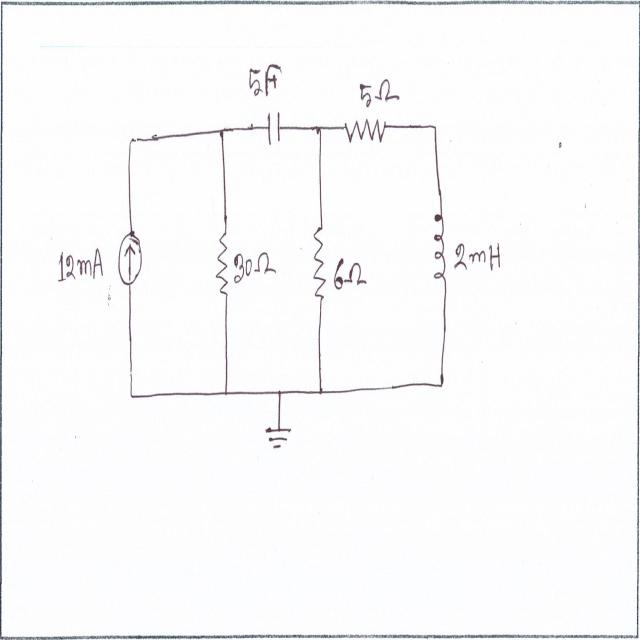capacitor: (266, 107, 285, 149)
current_source: (118, 227, 144, 291)
ground: (262, 417, 298, 456)
inductor: (429, 212, 449, 286)
resistor: (344, 109, 385, 147), (215, 227, 234, 306), (309, 218, 326, 305)
